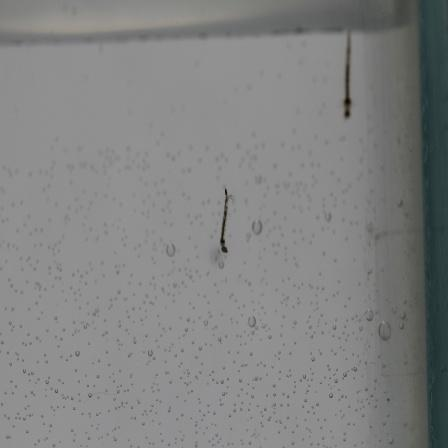Jentik-Nyamuk: (338, 28, 358, 123), (216, 184, 236, 257)
